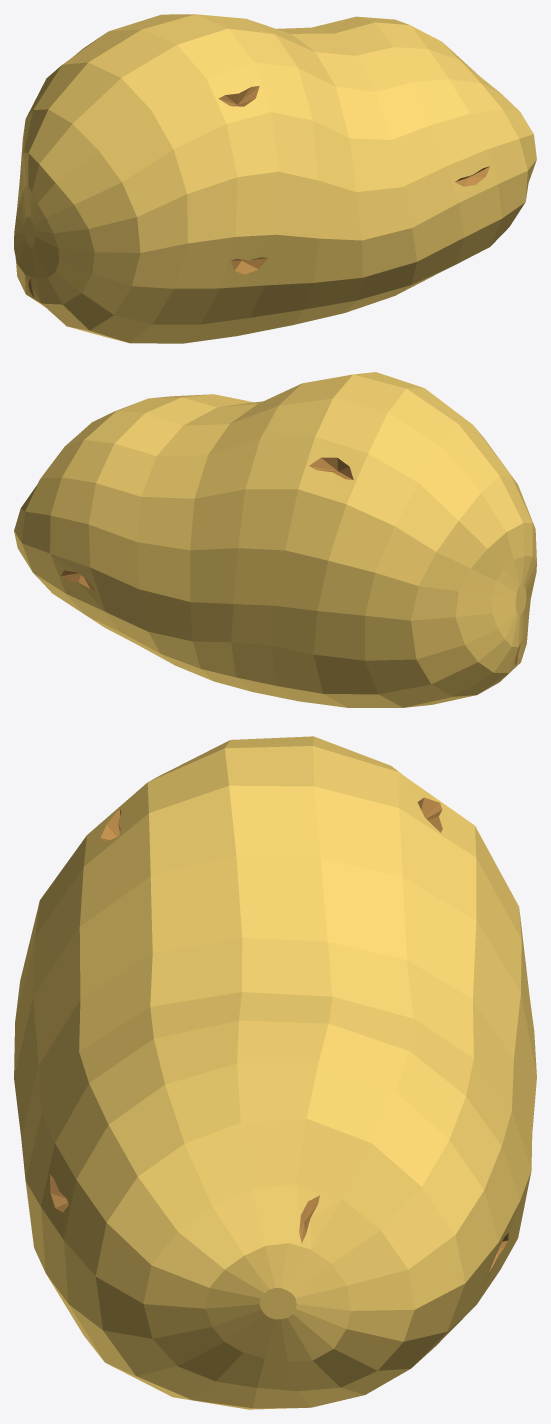
The model's file is 04-potato.glb.
3 views of the same model, one above another, from view 1: azimuth 30°, elevation 25°; view 2: azimuth 150°, elevation 25°; view 3: azimuth 270°, elevation 25° (orthographic). The views are drawn at different scales.
Parts seen in each view (by area): view 1: 04-potato_Body; view 2: 04-potato_Body; view 3: 04-potato_Body.
Part boxes in pixels (left/top/right/bottom): 04-potato_Body: left=14, top=14, right=536, bottom=343; 04-potato_Body: left=14, top=372, right=536, bottom=707; 04-potato_Body: left=14, top=736, right=536, bottom=1409.
Size of the model in its own units: 0.4417 by 0.2744 by 0.2593.
Materials: 1 (1 with a texture image).
